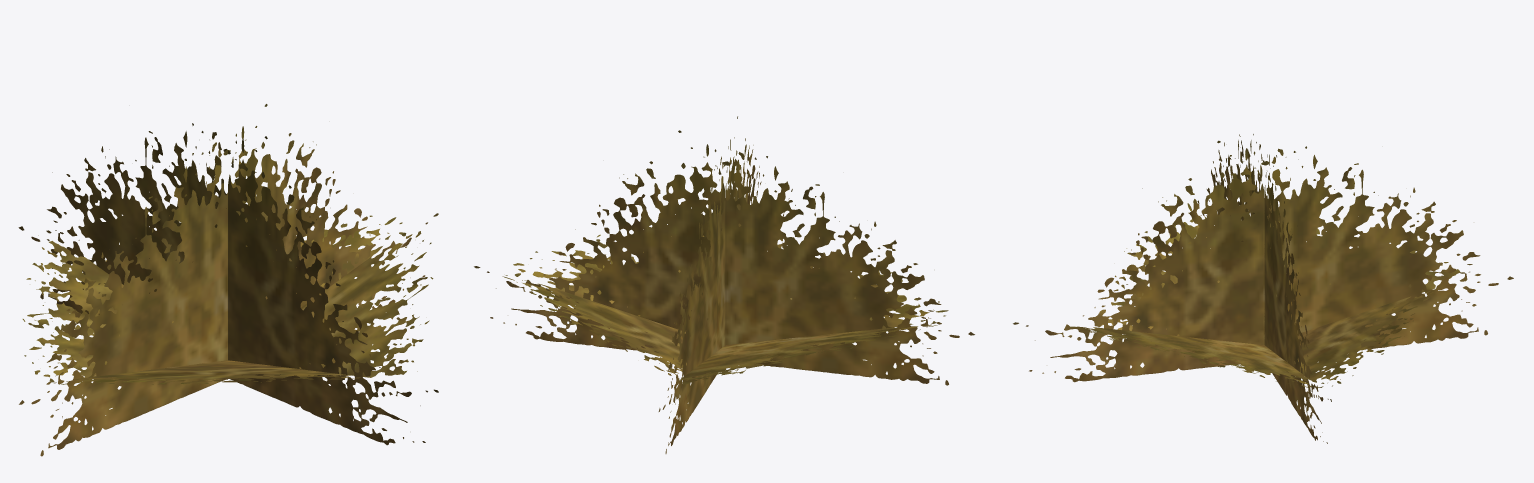
The model's file is M5_Bush01.glb.
The picture shows the model from 3 angles, left to right: view 1: azimuth 30°, elevation 25°; view 2: azimuth 150°, elevation 25°; view 3: azimuth 270°, elevation 25°; orthographic projection. The views are drawn at different scales.
Parts seen in each view (by area): view 1: M5_BUSH01; view 2: M5_BUSH01; view 3: M5_BUSH01.
Part boxes in pixels (box(x1,y1,x2,y2)): M5_BUSH01: box(18, 104, 438, 456); M5_BUSH01: box(474, 116, 974, 453); M5_BUSH01: box(1013, 134, 1513, 443).
Bounding box in the file's own units: 2.32 × 1.2 × 2.32.
Materials: 1 (1 with a texture image).
